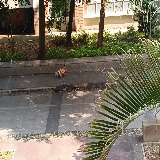fire: (59, 67, 66, 74)
